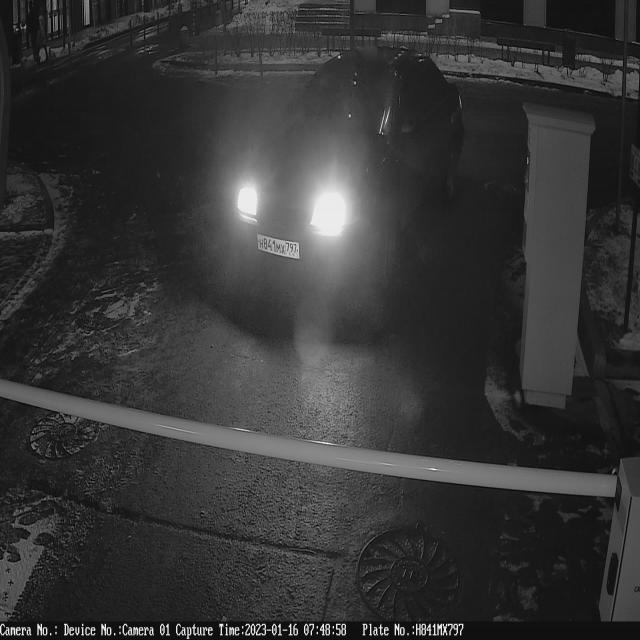car-plate-numbers: (256, 231, 302, 263)
